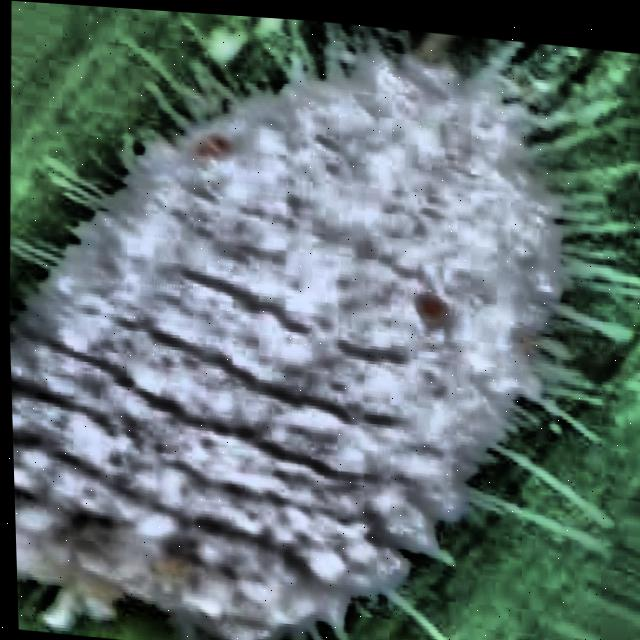Mealy-bug: (0, 0, 623, 640)
